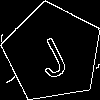J: (27, 27, 72, 81)
